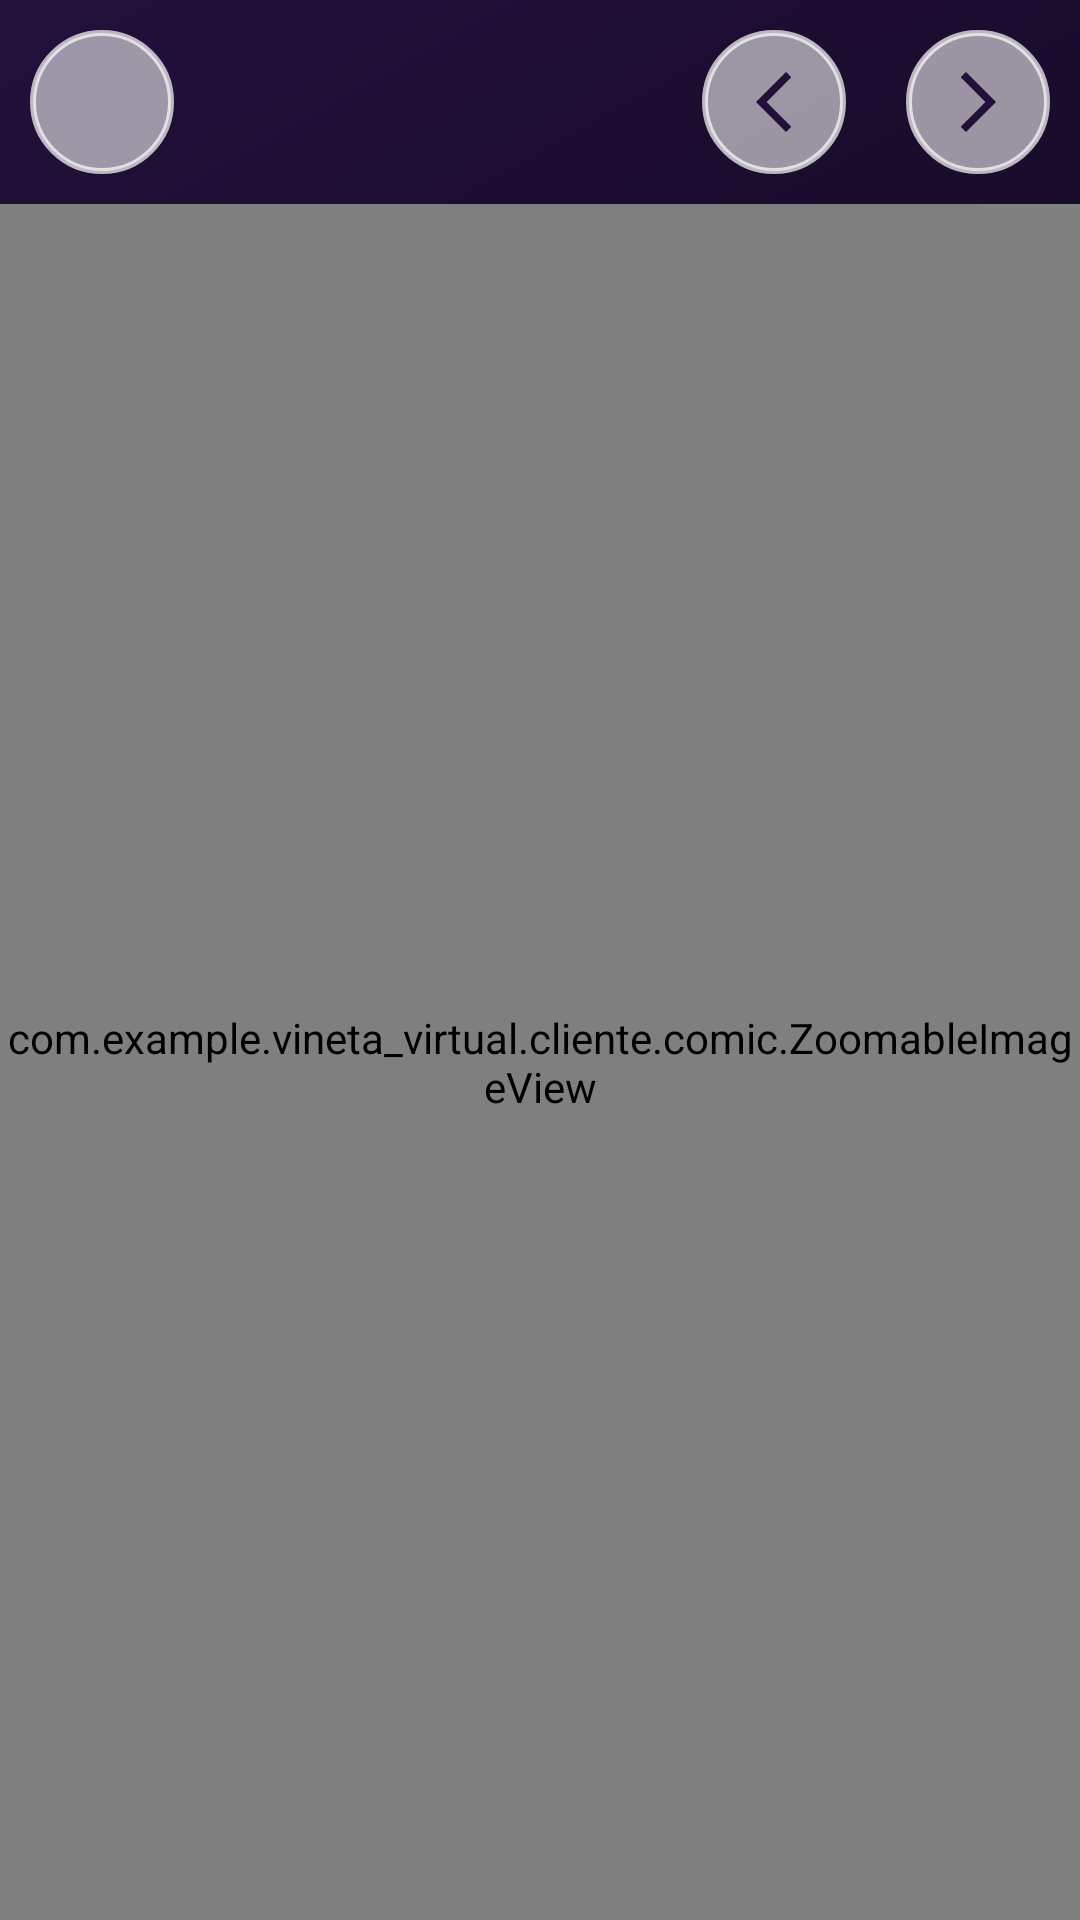

Where to tap for icons on this 1080w x 1920h app screen, as (x,y):
Siguiente: (978,102)
